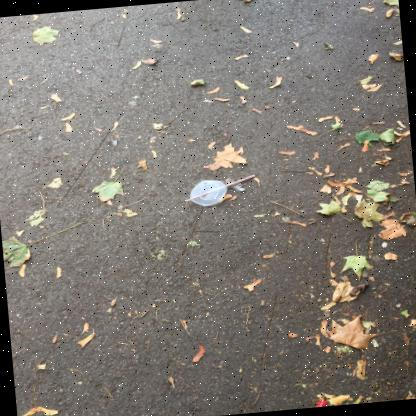Plastic lid: (190, 180, 227, 206)
Plastic straw: (186, 175, 256, 202)
Unlabeled litter: (316, 399, 328, 407)
